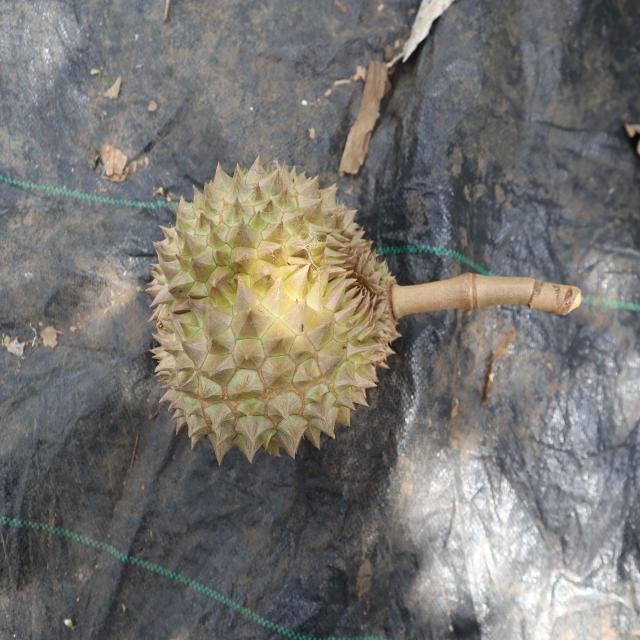mature: (143, 156, 404, 462)
